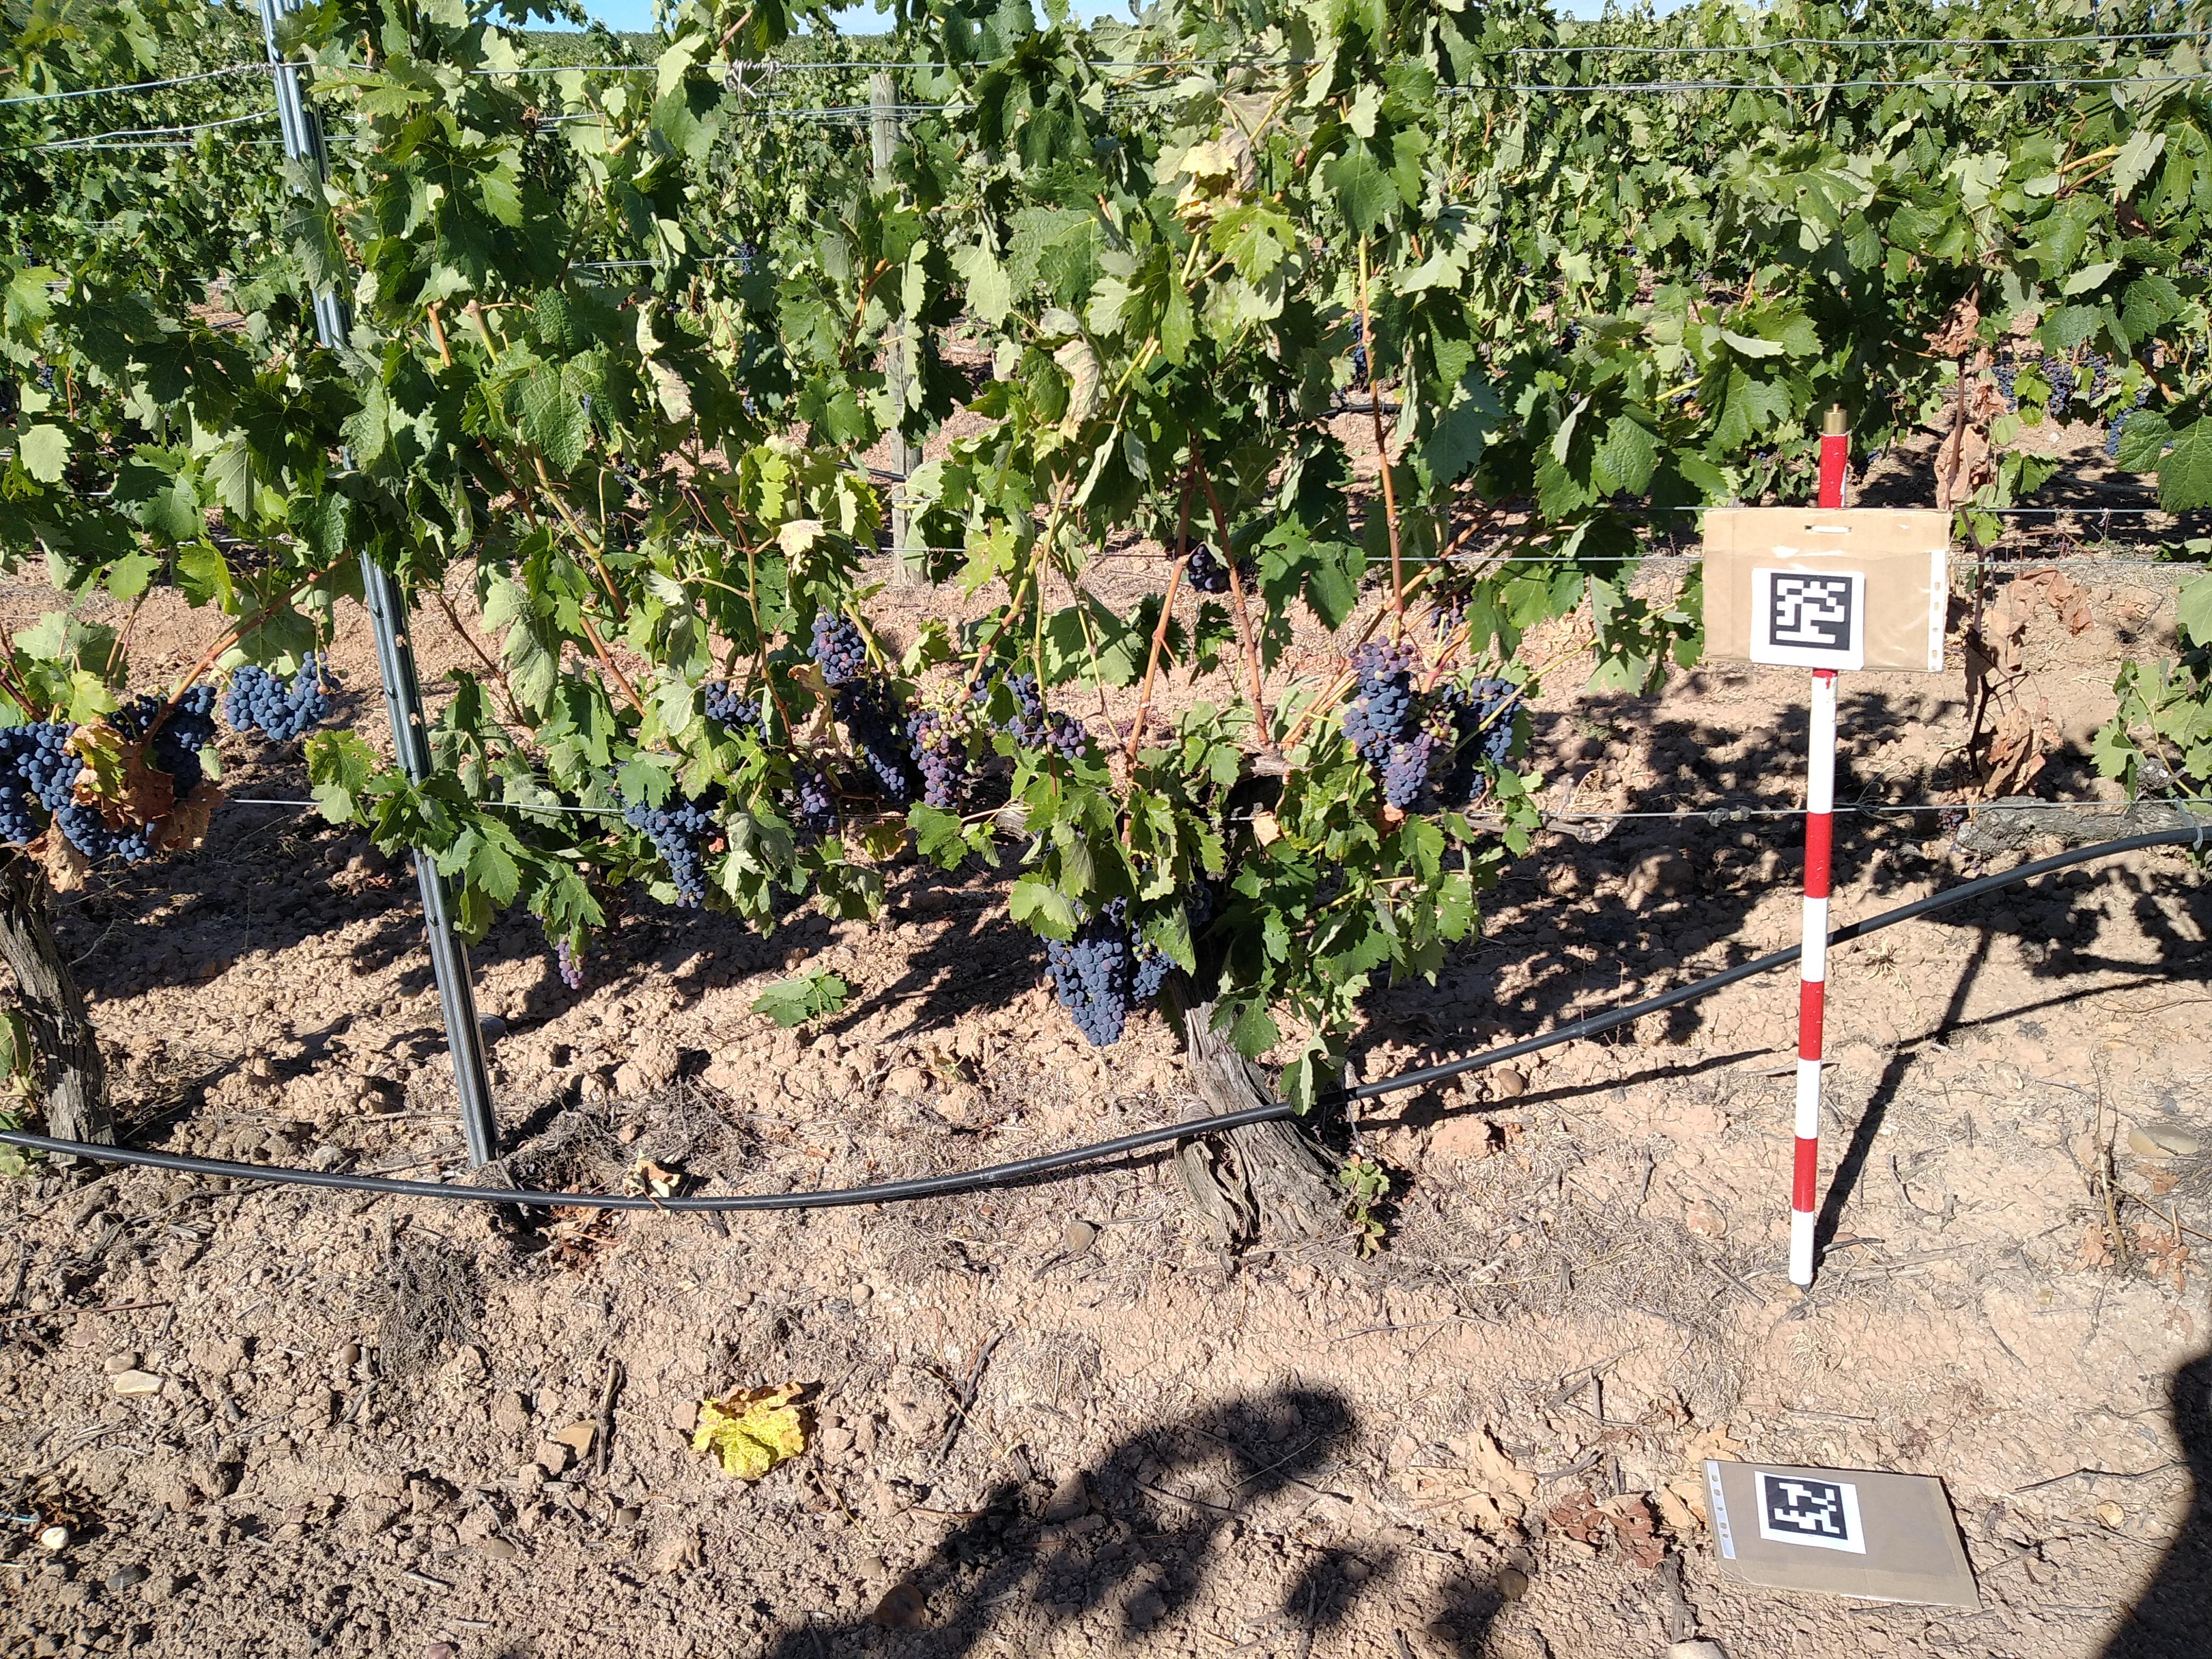0: (803, 603, 907, 765), (16, 716, 115, 857), (1036, 911, 1130, 1051), (611, 786, 716, 910), (223, 647, 350, 746), (115, 680, 218, 802), (965, 662, 1087, 762), (1440, 673, 1529, 803), (1336, 633, 1418, 767), (899, 687, 972, 816), (1376, 690, 1453, 810), (1116, 892, 1181, 1009), (787, 749, 845, 845), (533, 908, 589, 992), (700, 678, 770, 744), (0, 720, 35, 845), (857, 741, 916, 812), (1421, 573, 1479, 645), (1181, 535, 1231, 596), (105, 817, 158, 864), (1179, 868, 1214, 931)
qr: (1770, 572, 1851, 650)
